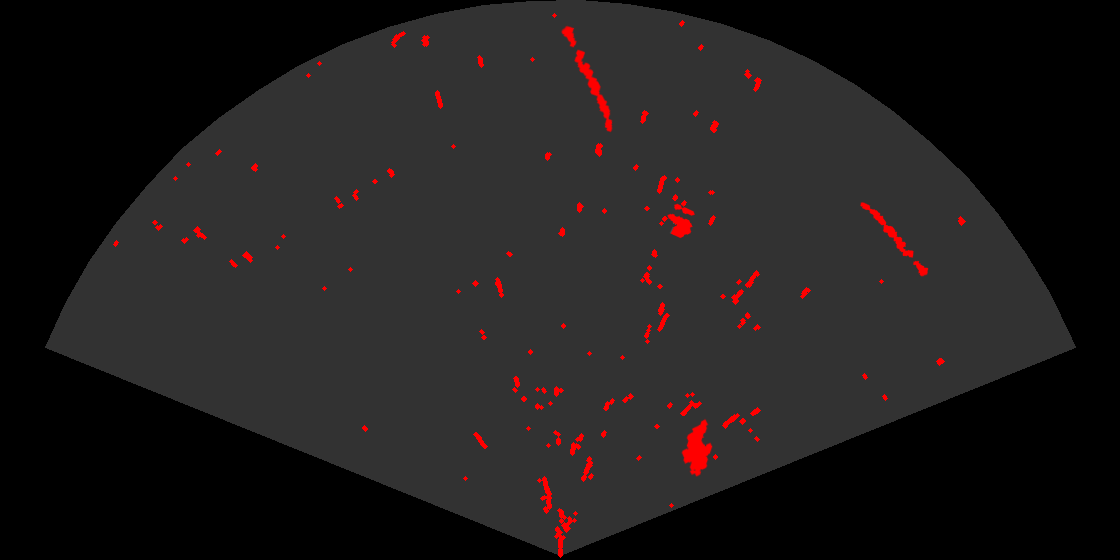AUV: (680, 417, 714, 478)
ball: (666, 202, 696, 240)
chain: (560, 24, 614, 134), (859, 201, 930, 278)
